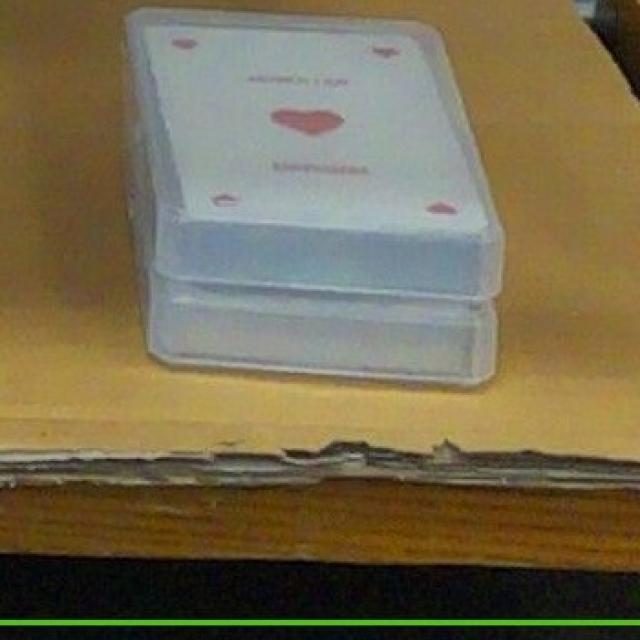Jasskarte: (121, 78, 497, 386), (121, 6, 505, 301)
